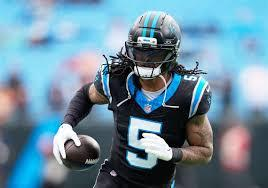americanFootball: (63, 135, 101, 171)
